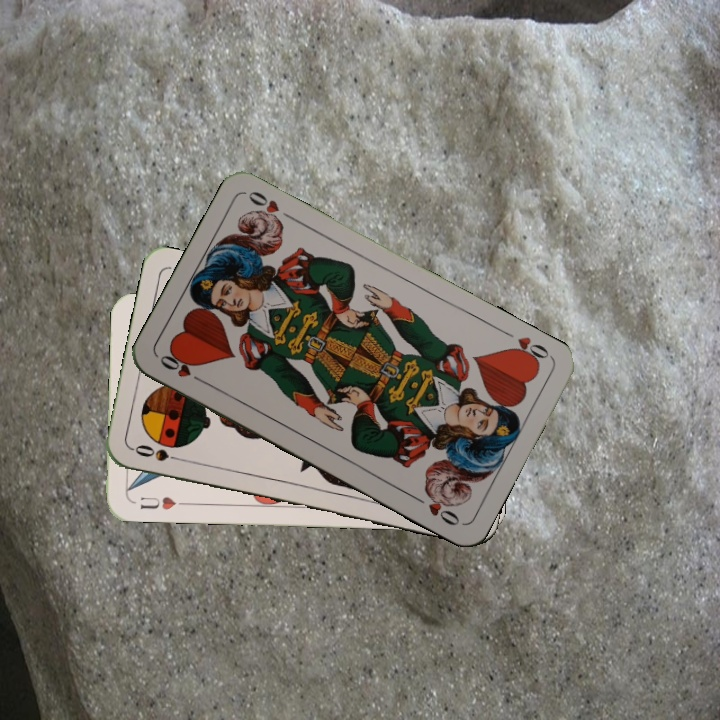HO: (155, 349, 209, 387), (503, 332, 554, 369)
HU: (136, 492, 179, 512)
SO: (129, 440, 188, 465)
